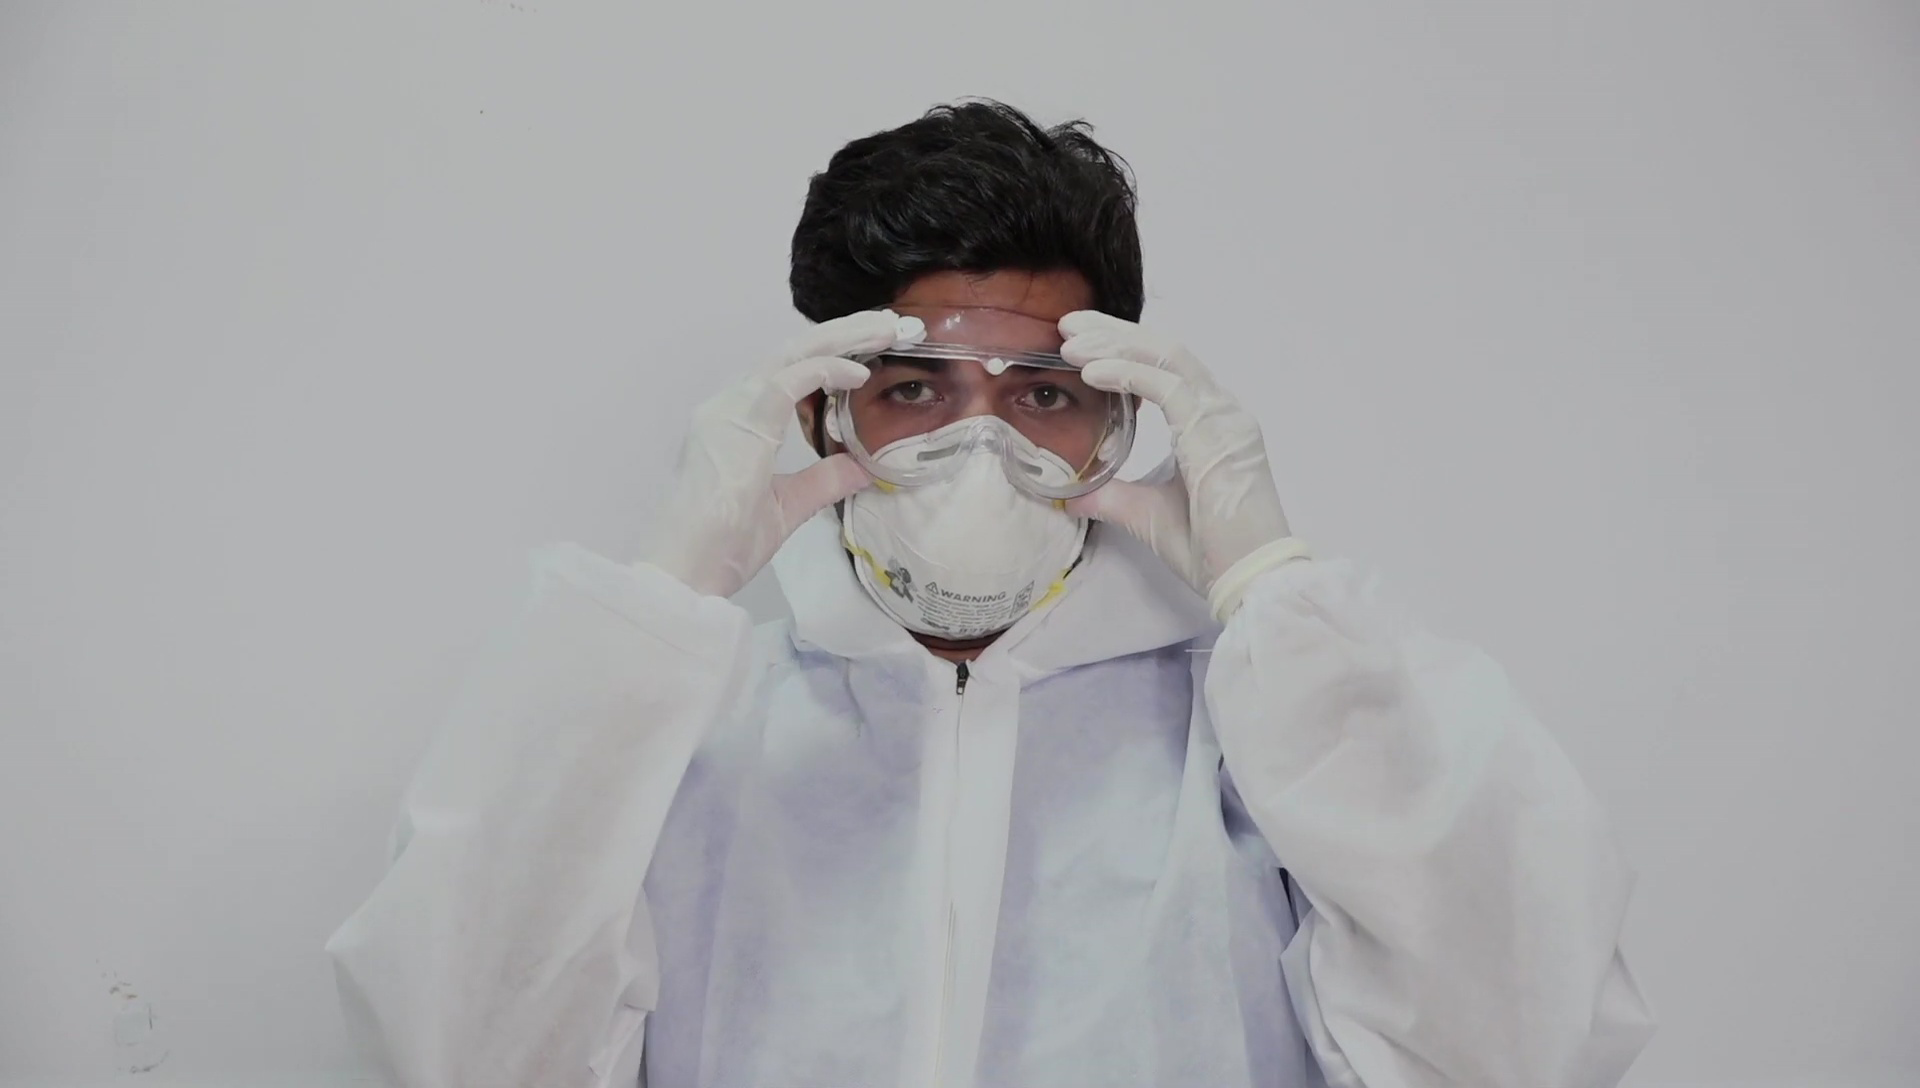Coverall: (289, 554, 1619, 1088)
Gloves: (642, 308, 894, 595), (1059, 309, 1291, 594)
Goggles: (833, 304, 1138, 500)
with_mask: (837, 366, 1091, 644)
